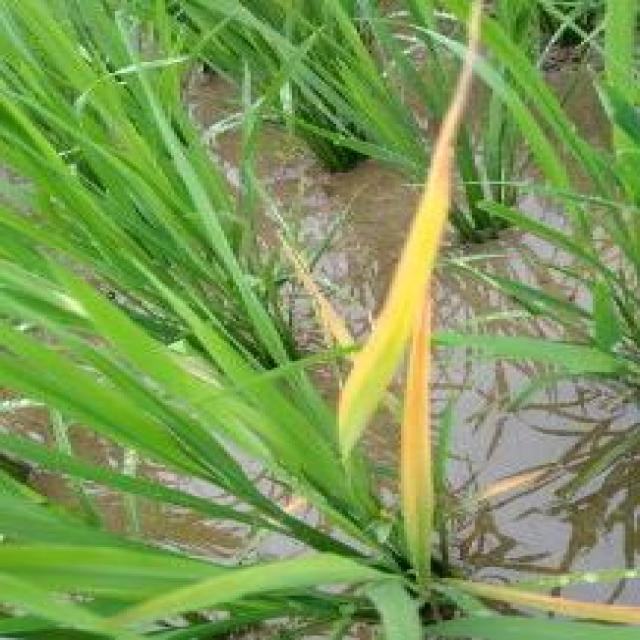Tungro: (321, 43, 523, 573)
